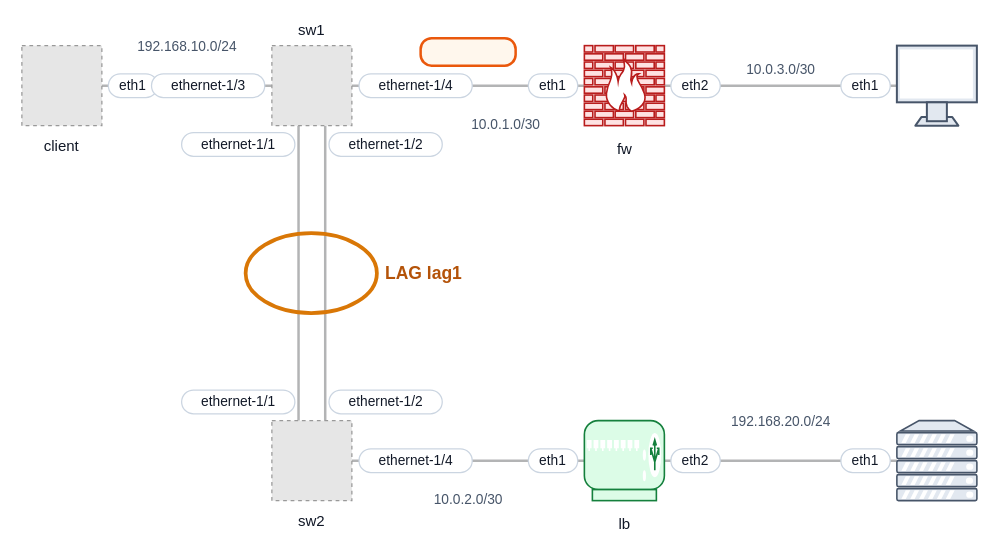
The diagram is 1000 pixels wide and 554 high, and some of its shapes have lost their labels. Grey dashed boxes stand in for pictures. Each missing label, with the box of its shape:
capture: (419, 36, 516, 66)
ids: (895, 44, 978, 126)
web: (895, 419, 978, 501)
